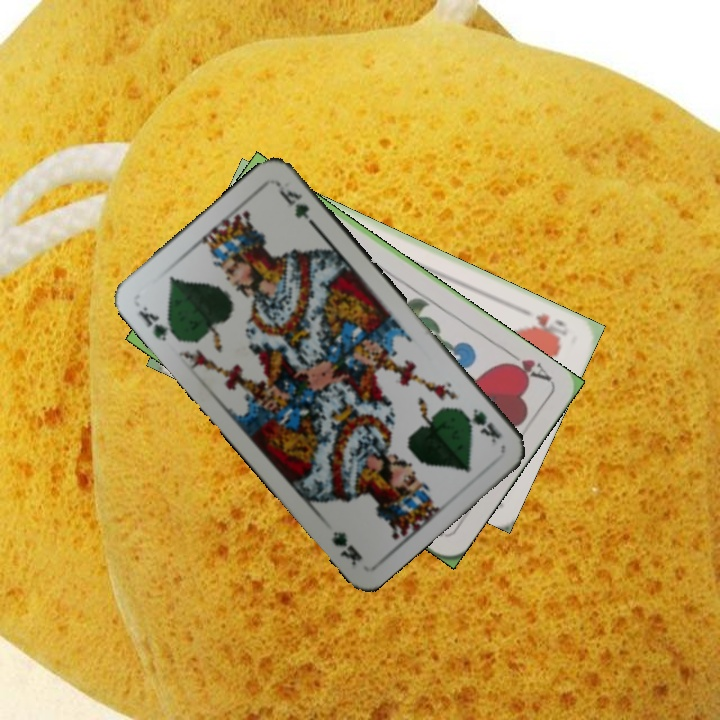GK: (134, 302, 181, 345), (457, 404, 504, 446)
HA: (499, 345, 555, 384)
HO: (528, 309, 570, 342)
